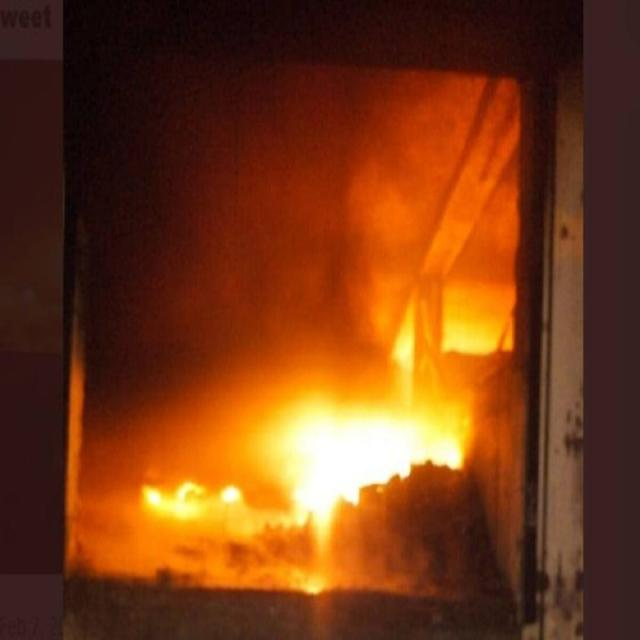fire: (288, 409, 464, 537), (442, 287, 512, 353), (142, 484, 241, 520), (394, 301, 414, 367)
